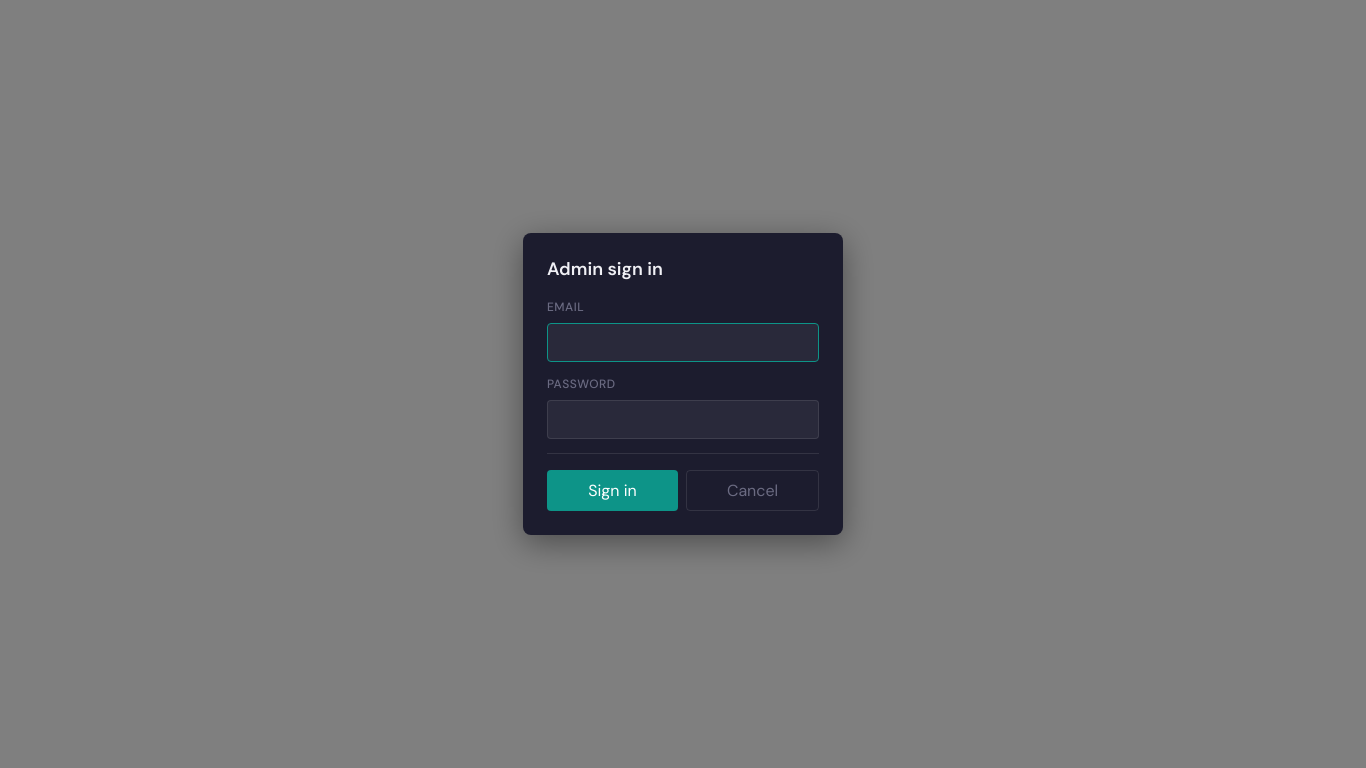
SignInModal › shows inline error message on failed submit
Type "a@b.c" into the field labelled "Email" at (683, 342), box [547,323,819,362]
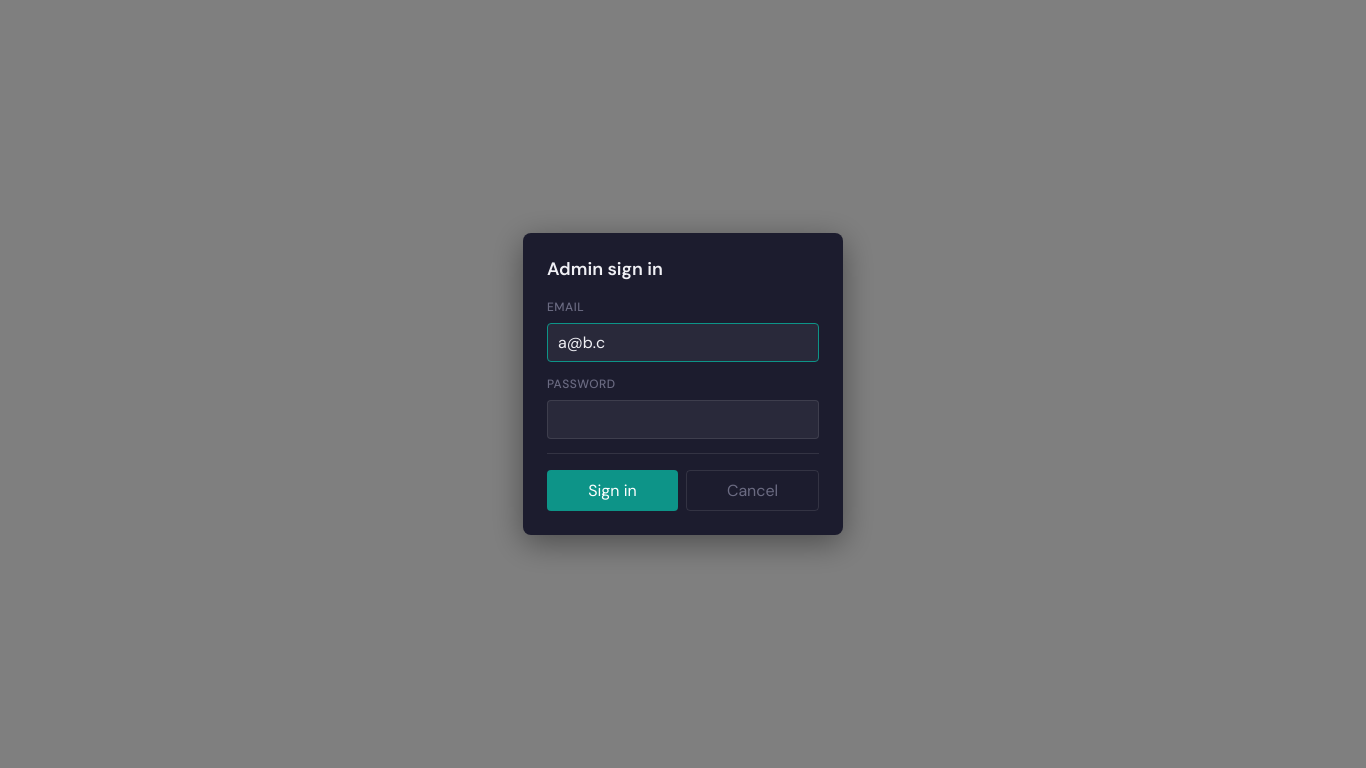
Type "pw" into the password field labelled "Password" at (683, 420), box [547,400,819,439]
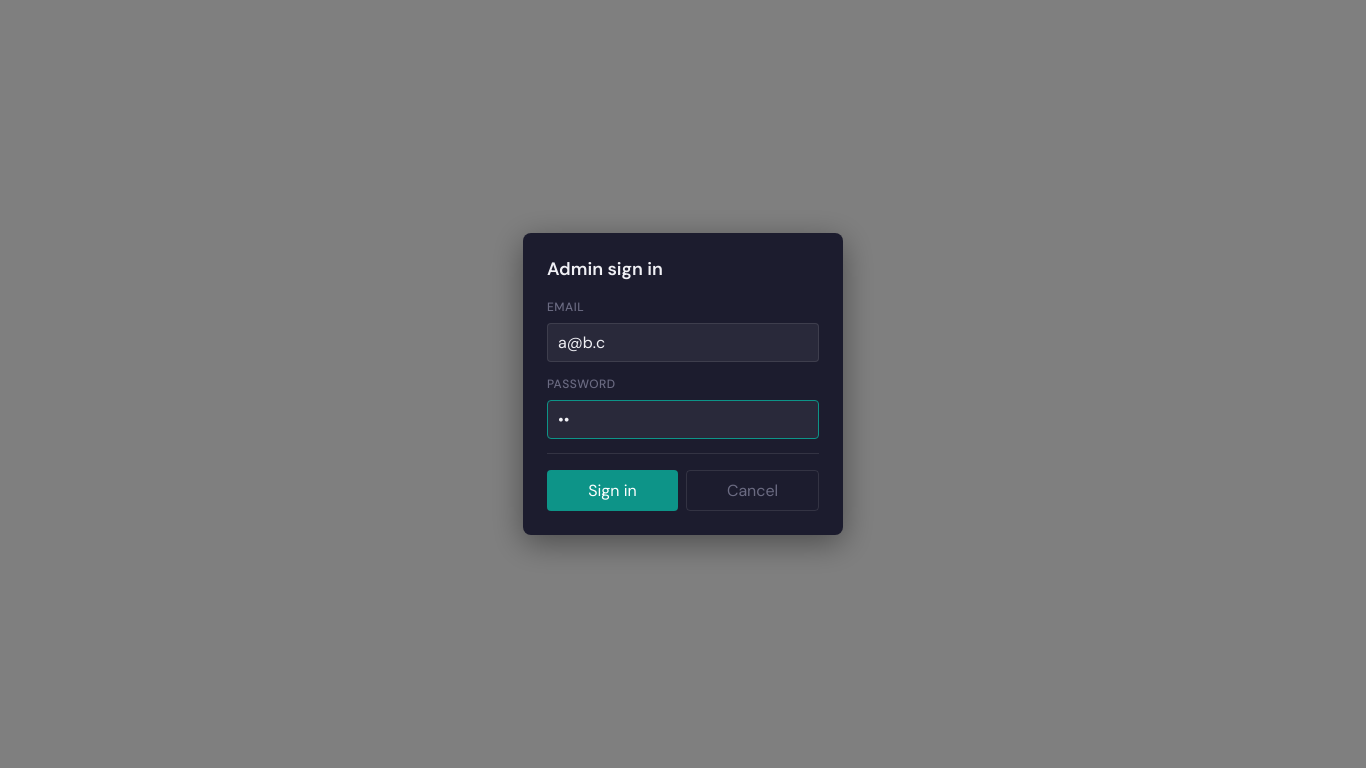
Click the button "Sign in" at (612, 490), box [547,470,678,511]
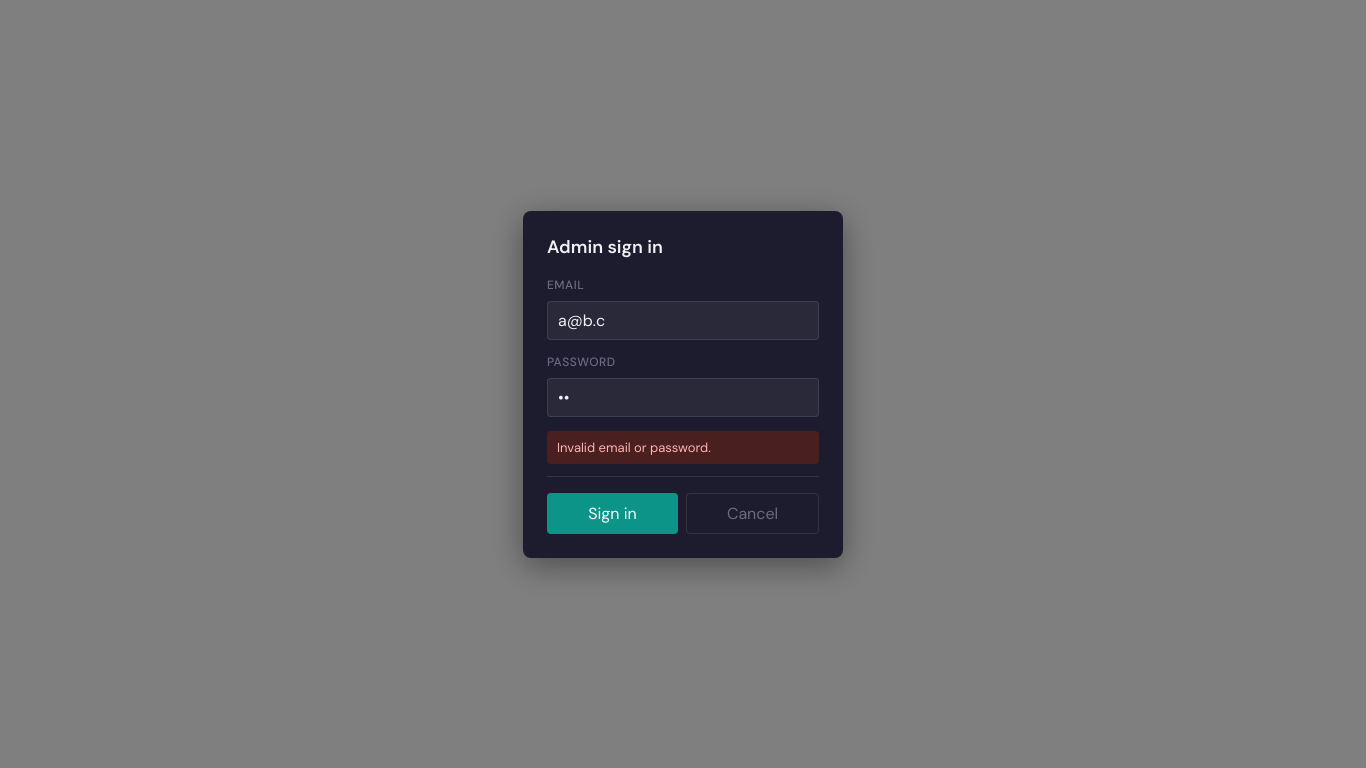
Check: the text "Invalid email or password." is shown, box [547,430,819,464]
